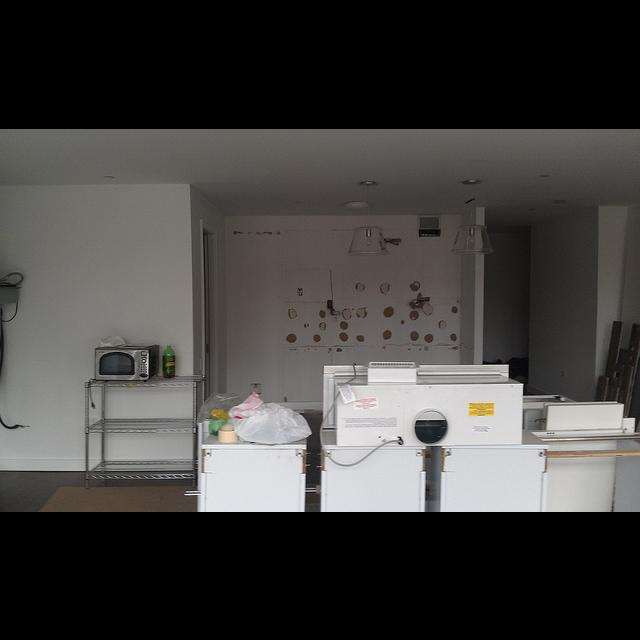Microwave: (92, 343, 160, 380)
